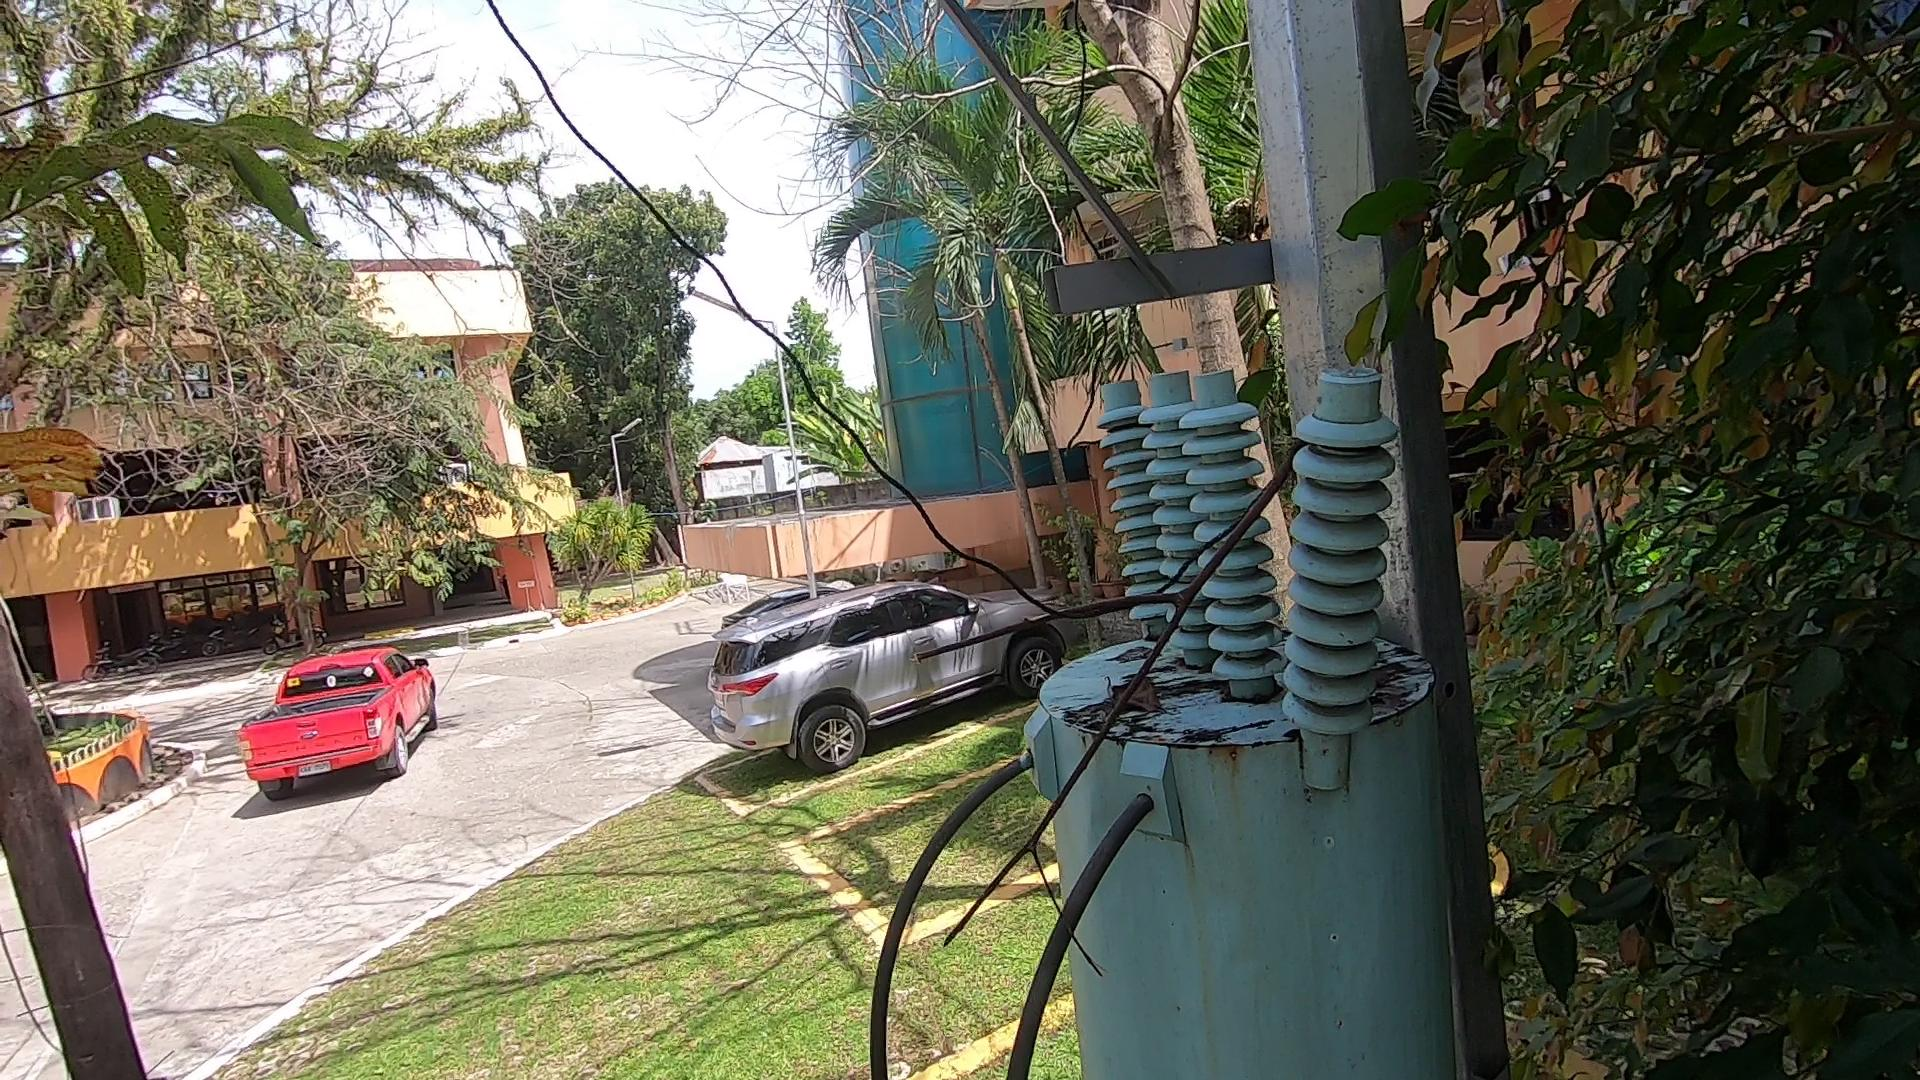leaf: (1076, 650, 1168, 728)
tree branch: (901, 369, 1335, 992)
